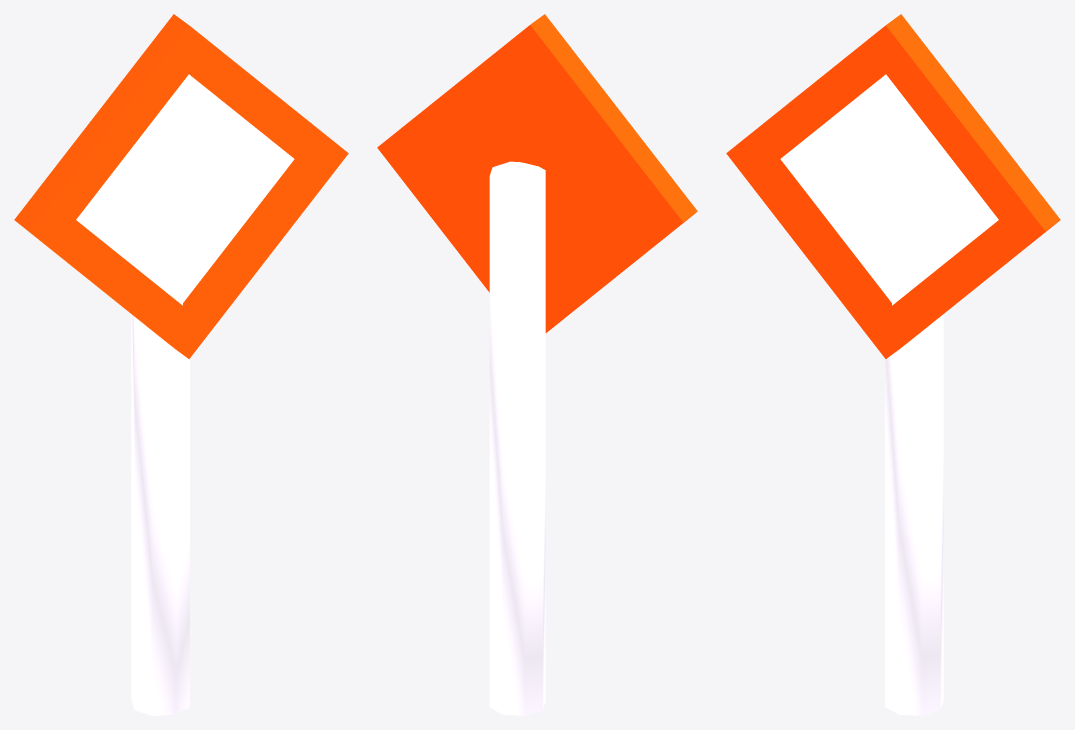
The model's file is sign00.fbx.
3 views of the same model, side by side, from view 1: azimuth 30°, elevation 25°; view 2: azimuth 150°, elevation 25°; view 3: azimuth 330°, elevation 25° (orthographic). The views are drawn at different scales.
Parts seen in each view (by area): view 1: sign01_red, sign01_white, sign01_post; view 2: sign01_red, sign01_post; view 3: sign01_red, sign01_white, sign01_post.
Part boxes in pixels (x1=…): sign01_red: x1=14, y1=14, x2=348, y2=358; sign01_white: x1=76, y1=74, x2=294, y2=304; sign01_post: x1=131, y1=303, x2=189, y2=715; sign01_red: x1=377, y1=14, x2=697, y2=332; sign01_post: x1=489, y1=161, x2=545, y2=715; sign01_red: x1=726, y1=14, x2=1060, y2=358; sign01_white: x1=780, y1=74, x2=998, y2=304; sign01_post: x1=885, y1=303, x2=943, y2=715.
Bounding box in the file's own units: 1.31 × 2.74 × 0.3098.
